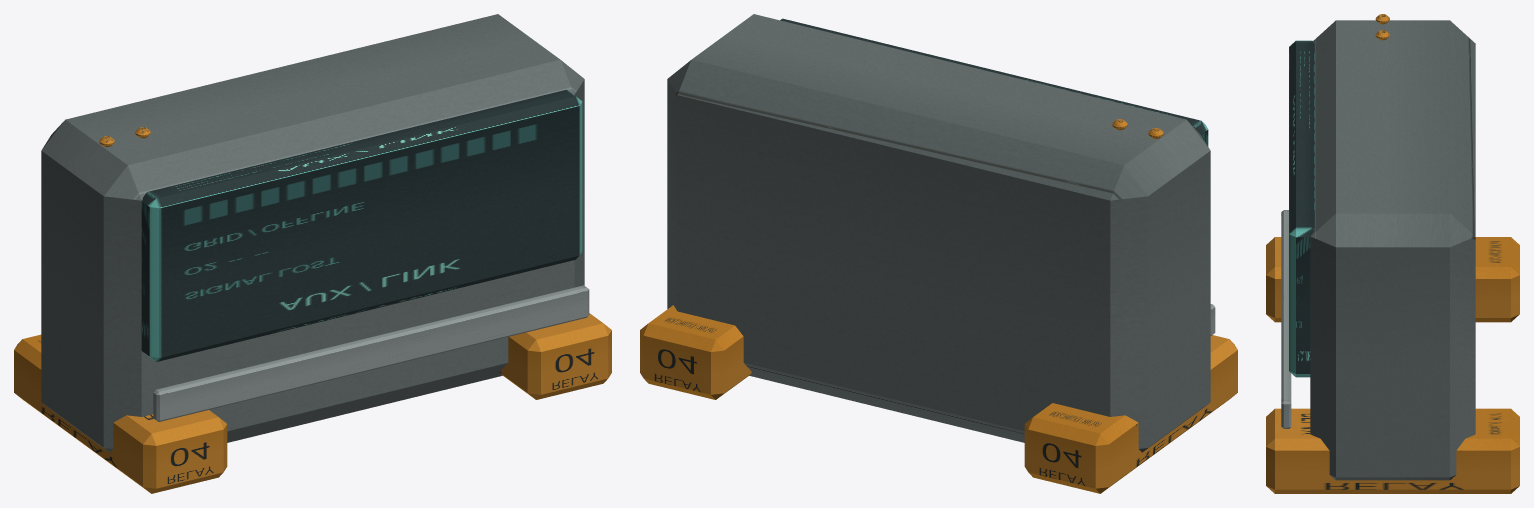
File: barricade_2m_LOD0.obj
3 renders of one model, left to right at view 1: azimuth 30°, elevation 25°; view 2: azimuth 150°, elevation 25°; view 3: azimuth 270°, elevation 25°, orthographic. The views are drawn at different scales.
Parts seen in each view (by area): view 1: L02_barricade_2m_LOD0; view 2: L02_barricade_2m_LOD0; view 3: L02_barricade_2m_LOD0.
Part boxes in pixels (bbox=[...]): L02_barricade_2m_LOD0: bbox=[14, 14, 611, 493]; L02_barricade_2m_LOD0: bbox=[640, 14, 1237, 493]; L02_barricade_2m_LOD0: bbox=[1266, 14, 1519, 493].
Bounding box in the file's own units: 2 × 1.23 × 1.
1 material, 1 textured.
